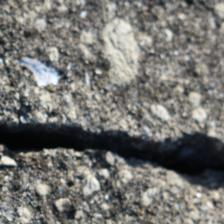Crack: (2, 54, 217, 142)
